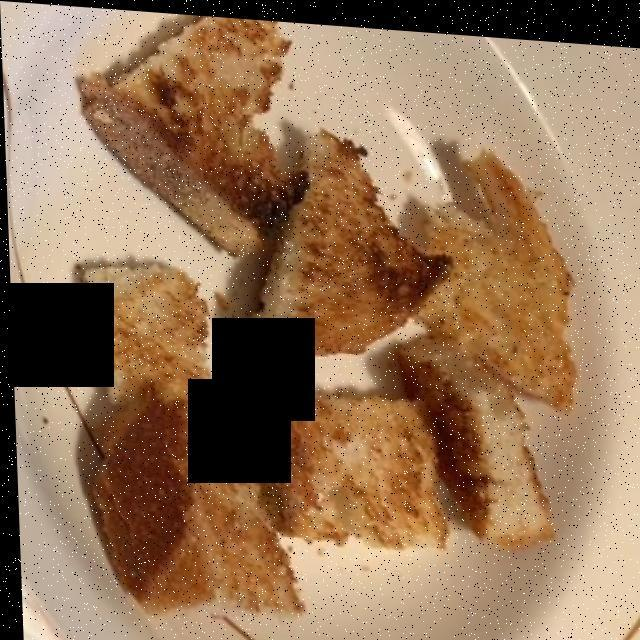bread: (86, 17, 578, 619)
